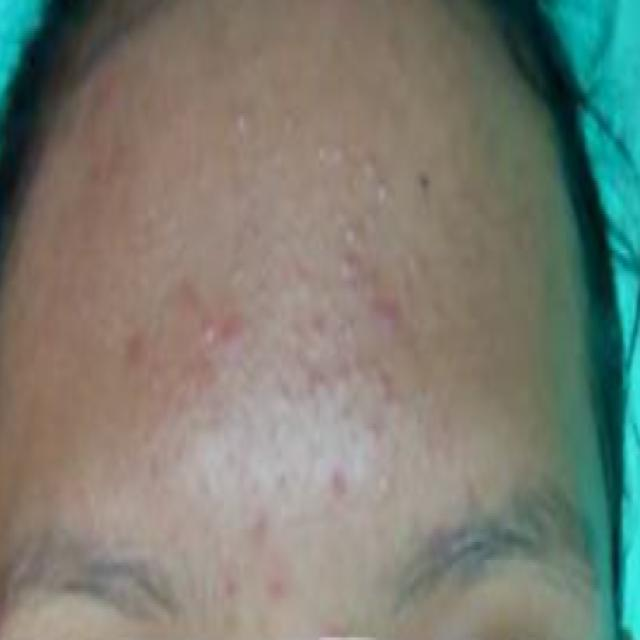fungal: (74, 87, 455, 549)
